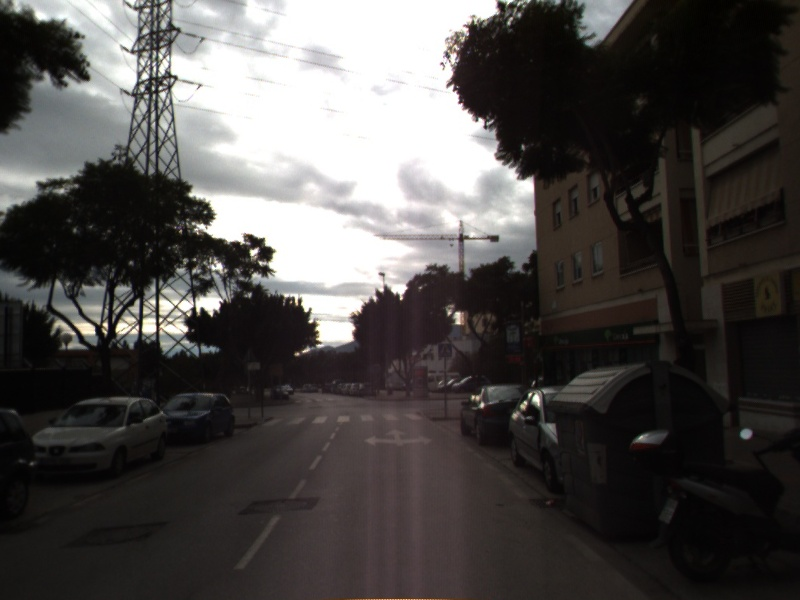STRAIGHT_LEFT_RIGHT: (362, 426, 435, 448)
